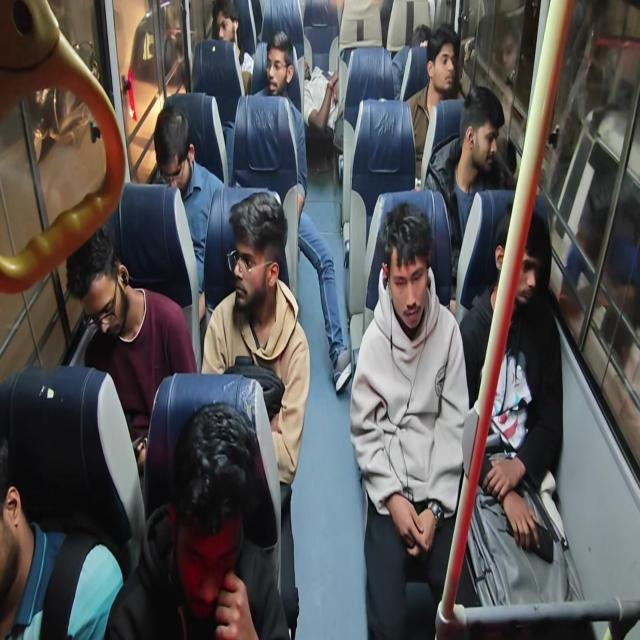person: (92, 245, 176, 416), (0, 379, 65, 582), (171, 379, 228, 596), (144, 89, 205, 223), (226, 194, 276, 346), (378, 220, 443, 330), (494, 224, 546, 334), (305, 33, 344, 150), (268, 30, 304, 113), (470, 94, 502, 177), (412, 22, 451, 81), (212, 0, 242, 58), (440, 40, 460, 105)
